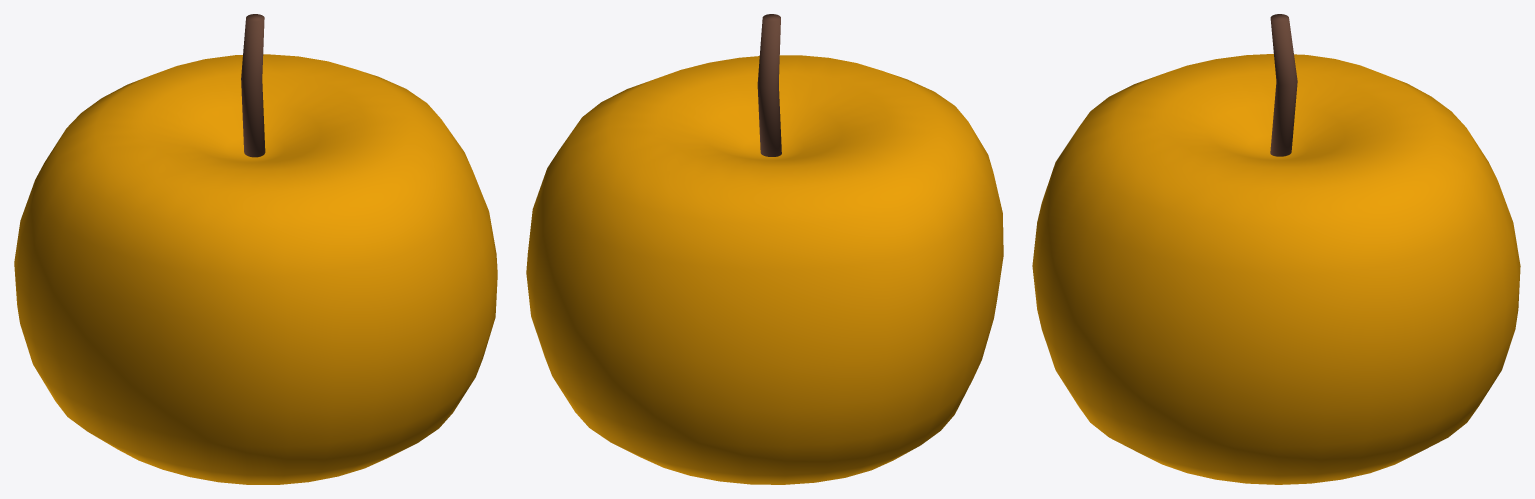
File: GoldenApple.fbx
The picture shows the model from 3 angles, left to right: view 1: azimuth 30°, elevation 25°; view 2: azimuth 150°, elevation 25°; view 3: azimuth 270°, elevation 25°; orthographic projection.
Parts seen in each view (by area): view 1: Apple; view 2: Apple; view 3: Apple.
Part boxes in pixels (x1,y1,x2,y2): Apple: (14, 14, 497, 484); Apple: (526, 14, 1003, 484); Apple: (1032, 14, 1520, 484).
Size of the model in its own units: 194 by 182 by 198.
